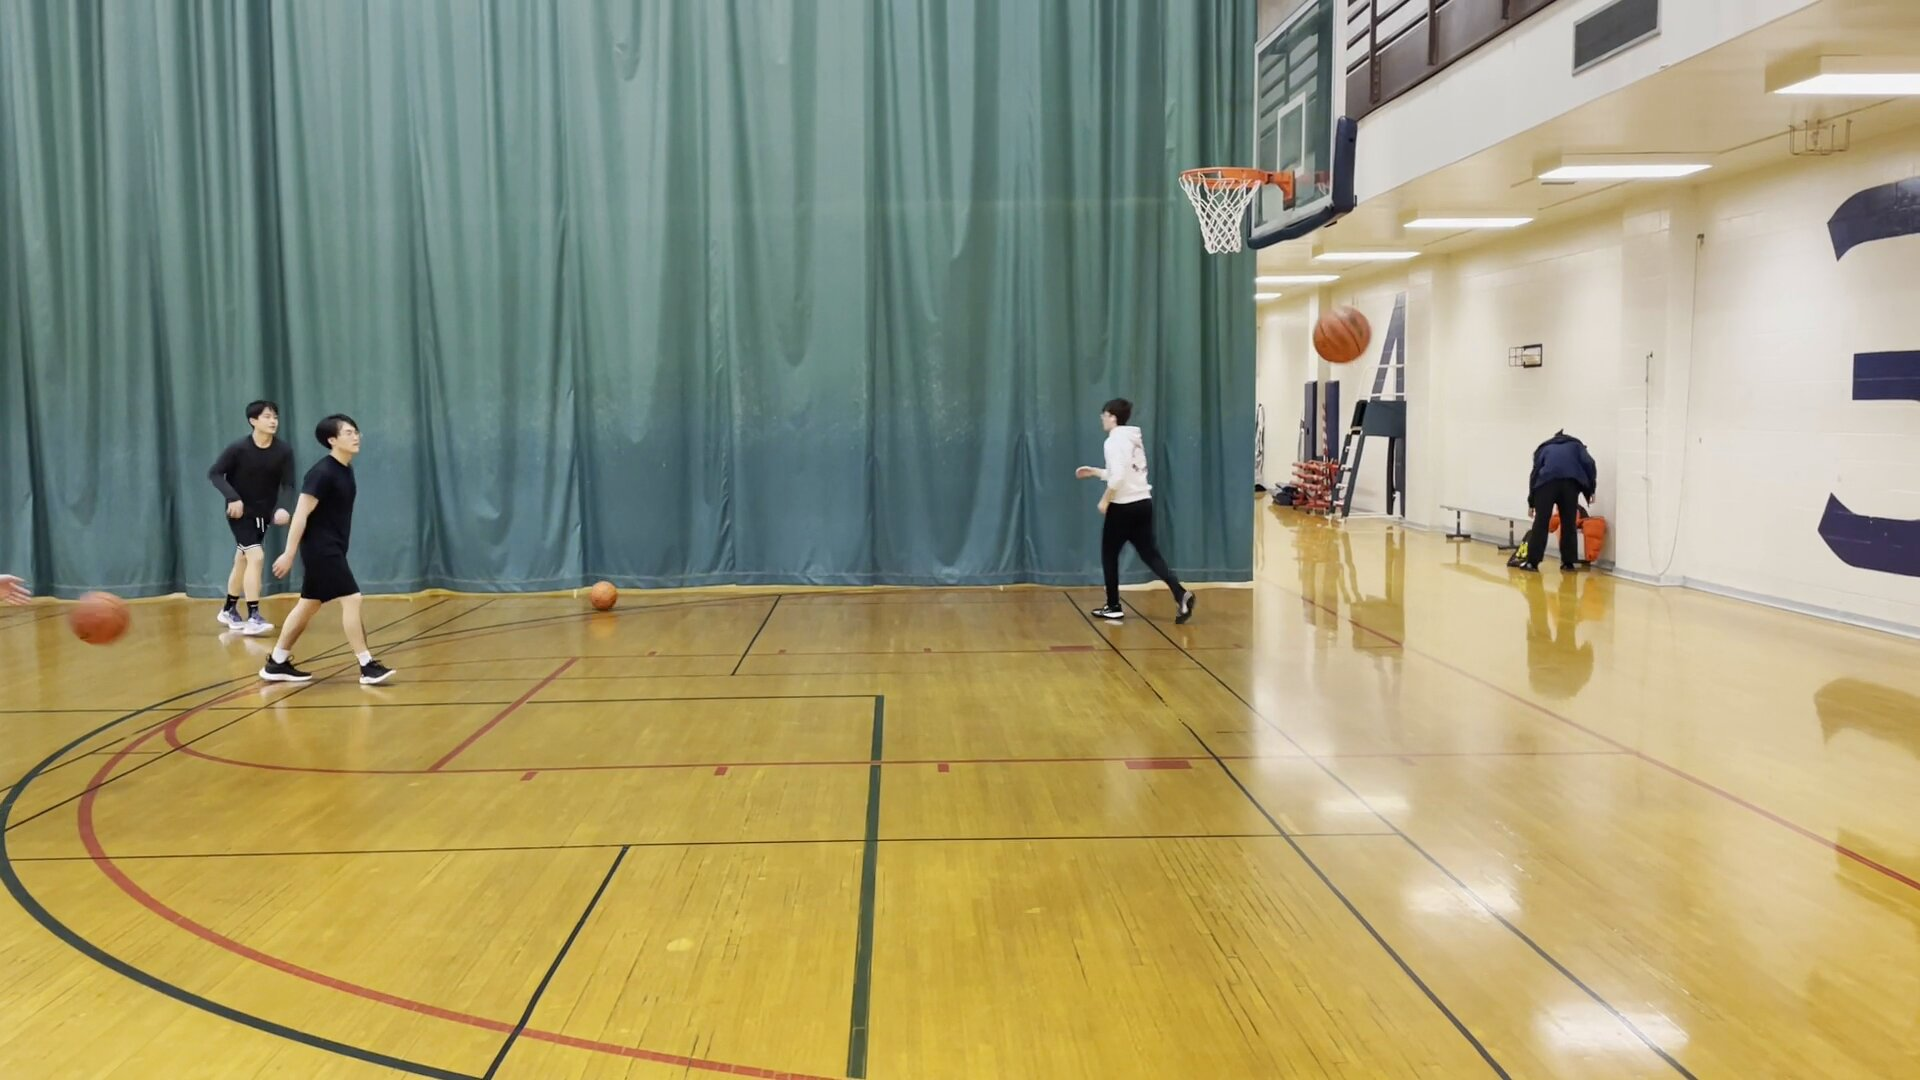ball: (1306, 298, 1378, 367), (67, 589, 135, 650), (586, 578, 621, 611)
net: (1195, 232, 1250, 259)
player: (259, 412, 395, 688), (1073, 391, 1198, 626), (207, 400, 292, 640), (1515, 421, 1600, 581)
rim: (1170, 160, 1273, 196)
